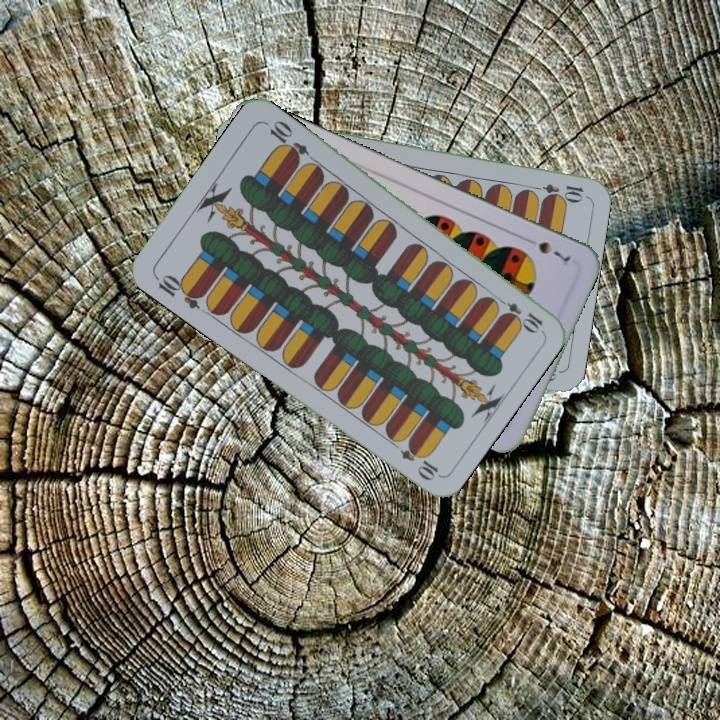E10: (150, 270, 207, 312), (491, 293, 546, 334), (527, 179, 586, 202)
S7: (520, 233, 574, 265)
